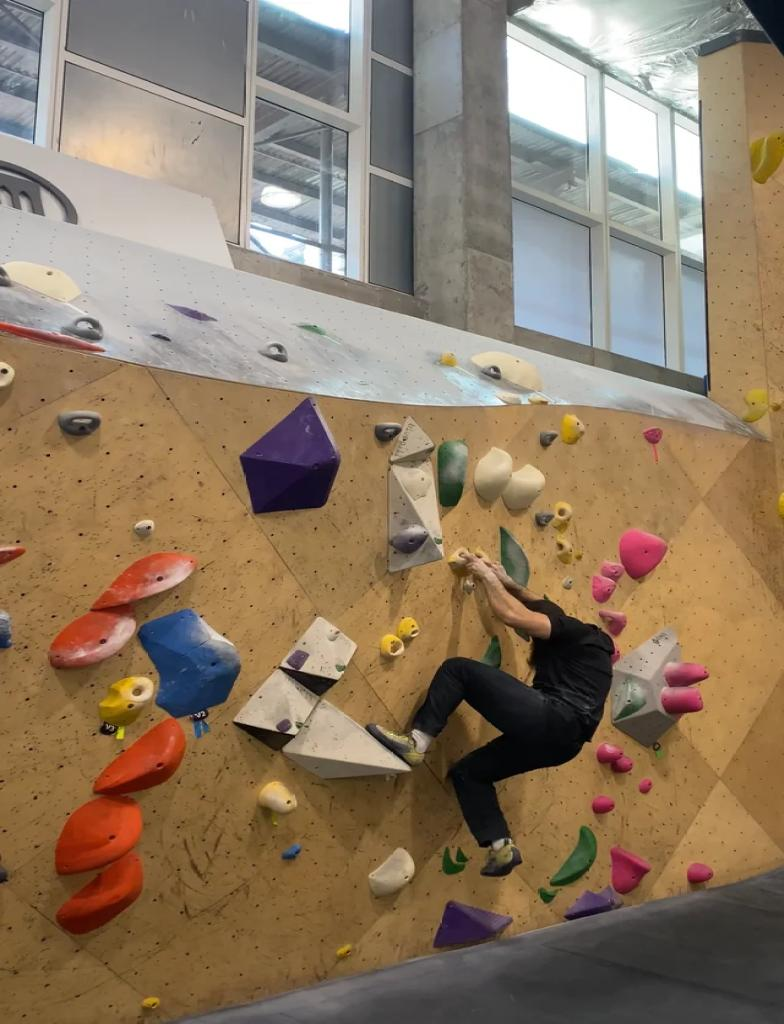jib: (134, 519, 154, 539), (281, 844, 300, 859), (142, 998, 159, 1010), (276, 719, 290, 733), (336, 945, 350, 958)
jug: (390, 525, 432, 554), (598, 610, 626, 637), (592, 575, 615, 603), (600, 561, 624, 583), (439, 352, 457, 367)
pocket: (98, 676, 154, 727), (560, 413, 584, 444), (396, 617, 418, 644), (551, 502, 571, 531), (380, 634, 403, 659)
sidepull: (240, 398, 339, 513), (138, 609, 240, 718), (55, 853, 142, 934), (93, 719, 185, 795), (620, 529, 666, 580), (556, 535, 573, 564)
sloper: (368, 847, 414, 897), (473, 447, 512, 503), (502, 465, 544, 512), (660, 687, 702, 716), (664, 663, 708, 687), (597, 743, 622, 764), (590, 795, 614, 815), (612, 755, 632, 773)
undercling: (55, 796, 141, 874), (92, 552, 196, 609), (49, 612, 135, 668)
volume: (282, 699, 410, 778), (234, 667, 318, 746), (387, 460, 442, 572), (278, 617, 355, 695), (390, 417, 434, 464)
